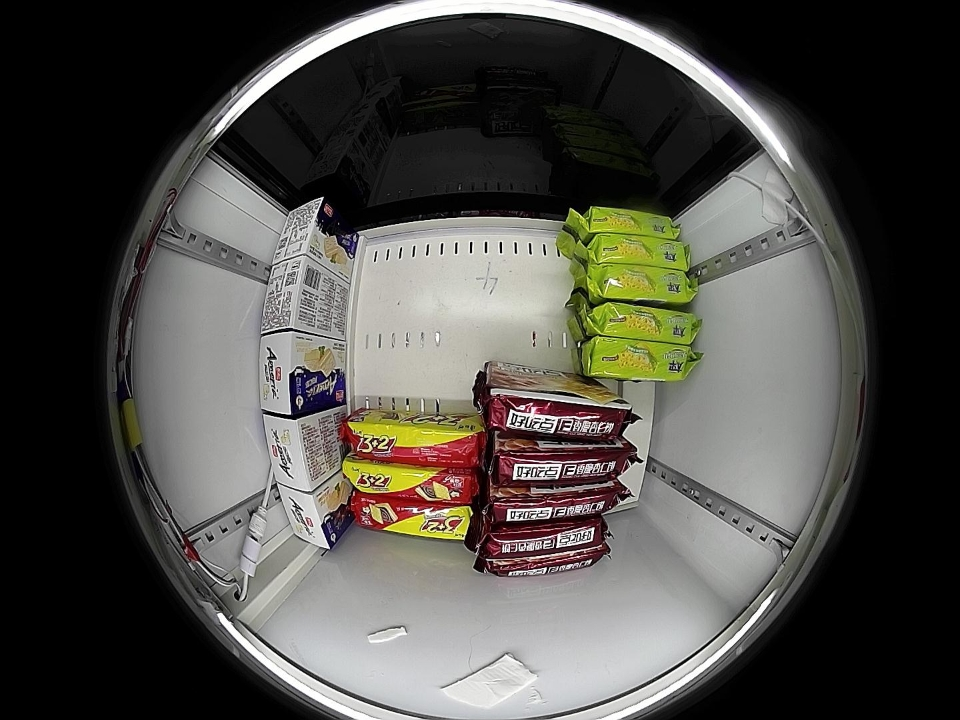3jia2: (345, 415, 484, 465), (344, 460, 477, 503), (354, 498, 472, 541)
haochidian: (483, 385, 634, 438), (491, 438, 634, 482), (487, 483, 628, 521), (480, 519, 611, 553), (475, 547, 614, 577)
meiniye: (261, 255, 327, 335), (263, 412, 329, 492), (260, 331, 321, 417), (276, 480, 342, 551), (272, 196, 338, 265)
taipingshuda: (584, 338, 699, 382), (588, 303, 701, 344), (588, 266, 698, 304), (588, 235, 691, 271), (581, 205, 682, 240)
